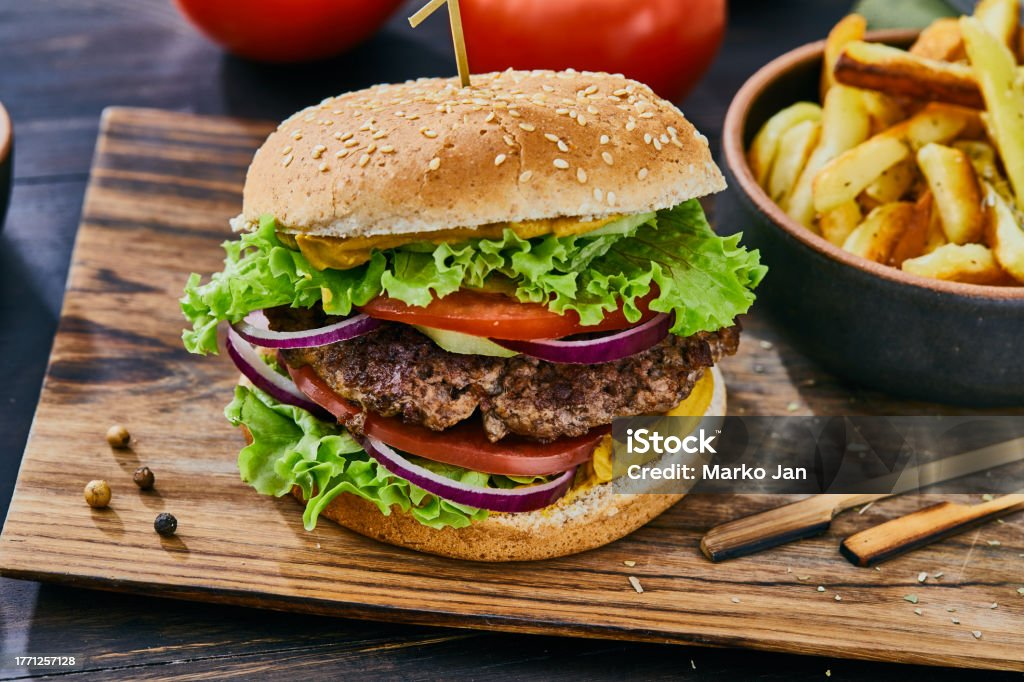burger: (205, 20, 769, 562)
chips: (729, 4, 1024, 324)
